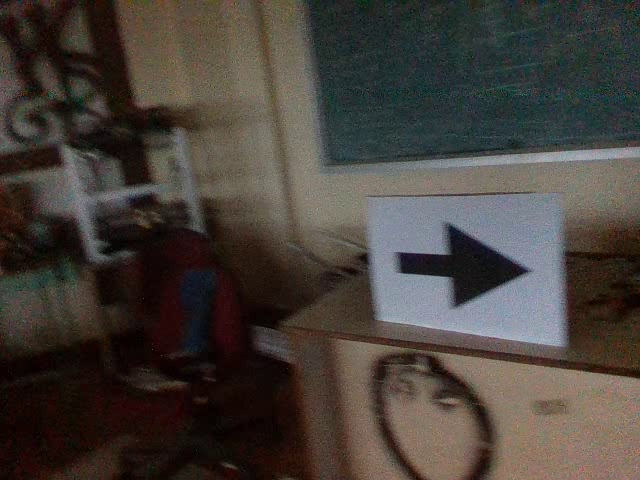Right: (386, 214, 540, 315)
